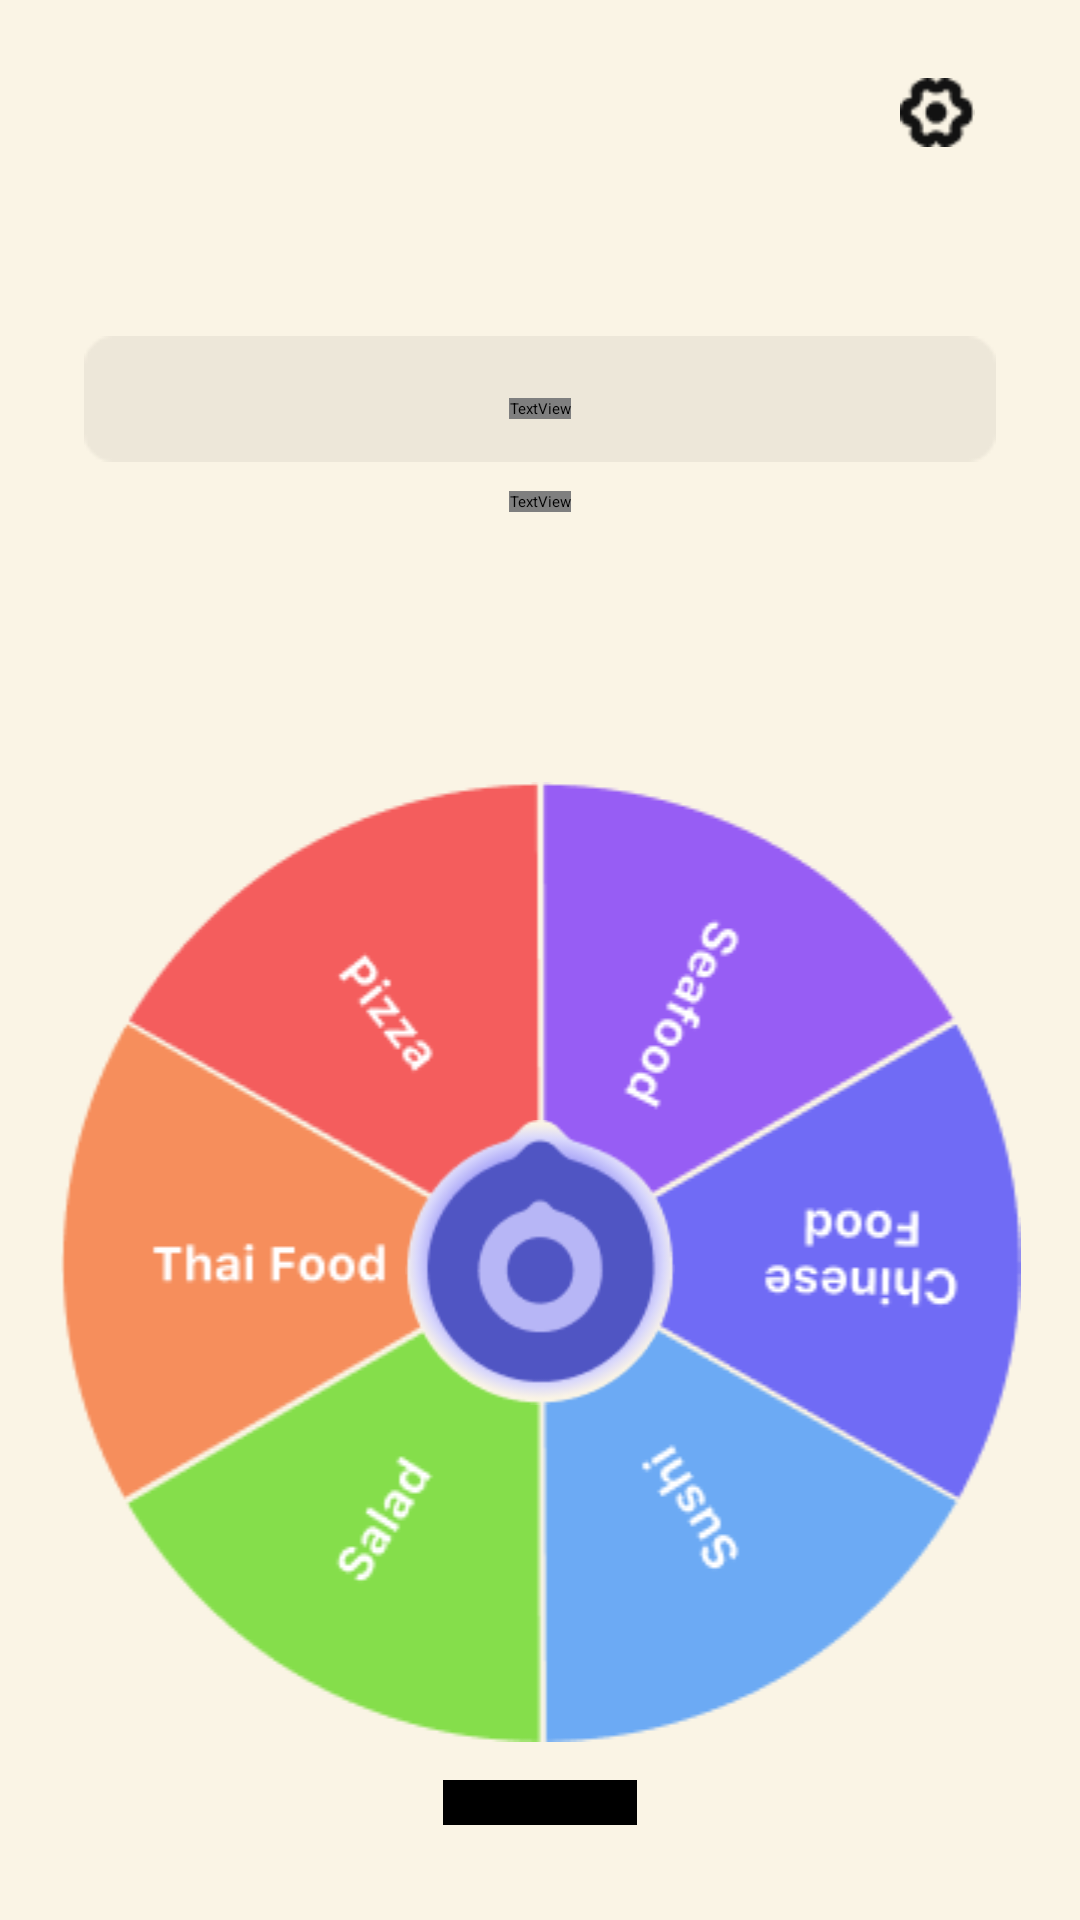

Point at icon controls on the screen. Image size 1080×1920, points as (x,y).
settings: (937,112)
spin pointer: (540,1262)
